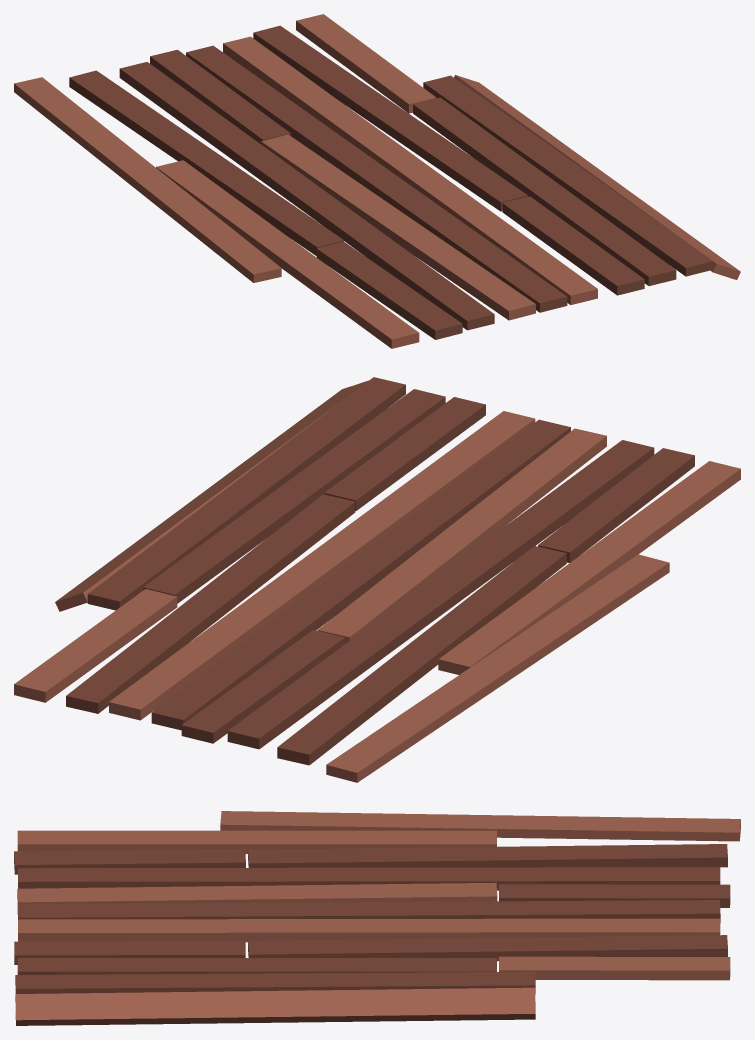
The model's file is FloorBoard.fbx.
3 renders of one model, top to bottom at view 1: azimuth 30°, elevation 25°; view 2: azimuth 150°, elevation 25°; view 3: azimuth 270°, elevation 25°, orthographic. The views are drawn at different scales.
Parts seen in each view (by area): view 1: FloorBoard; view 2: FloorBoard; view 3: FloorBoard.
Boxes of the visible parts, box(x1,y1,x2,y2) form: FloorBoard: box(14, 14, 740, 348); FloorBoard: box(14, 377, 740, 782); FloorBoard: box(14, 811, 740, 1025).
Bounding box in the file's own units: 2.55 × 0.1576 × 4.09.
Materials: 1 (1 with a texture image).
